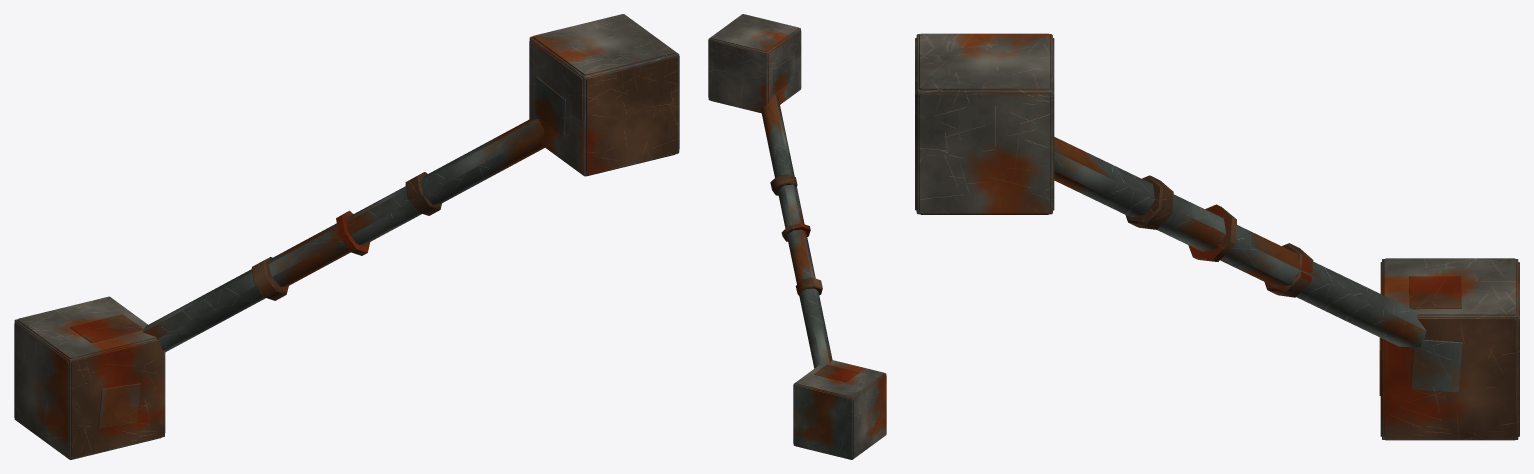
File: R4C_ROD_DIAG_3D.glb
The picture shows the model from 3 angles, left to right: view 1: azimuth 30°, elevation 25°; view 2: azimuth 150°, elevation 25°; view 3: azimuth 270°, elevation 25°; orthographic projection. The views are drawn at different scales.
Parts seen in each view (by area): view 1: R4C_ROD_DIAG_3D; view 2: R4C_ROD_DIAG_3D; view 3: R4C_ROD_DIAG_3D.
Boxes of the visible parts, <box> form: R4C_ROD_DIAG_3D: <box>14,14,679,459</box>; R4C_ROD_DIAG_3D: <box>708,14,886,459</box>; R4C_ROD_DIAG_3D: <box>915,33,1519,440</box>.
Bounding box in the file's own units: 1.62 × 1.62 × 1.62.
4 materials, 4 textured.
